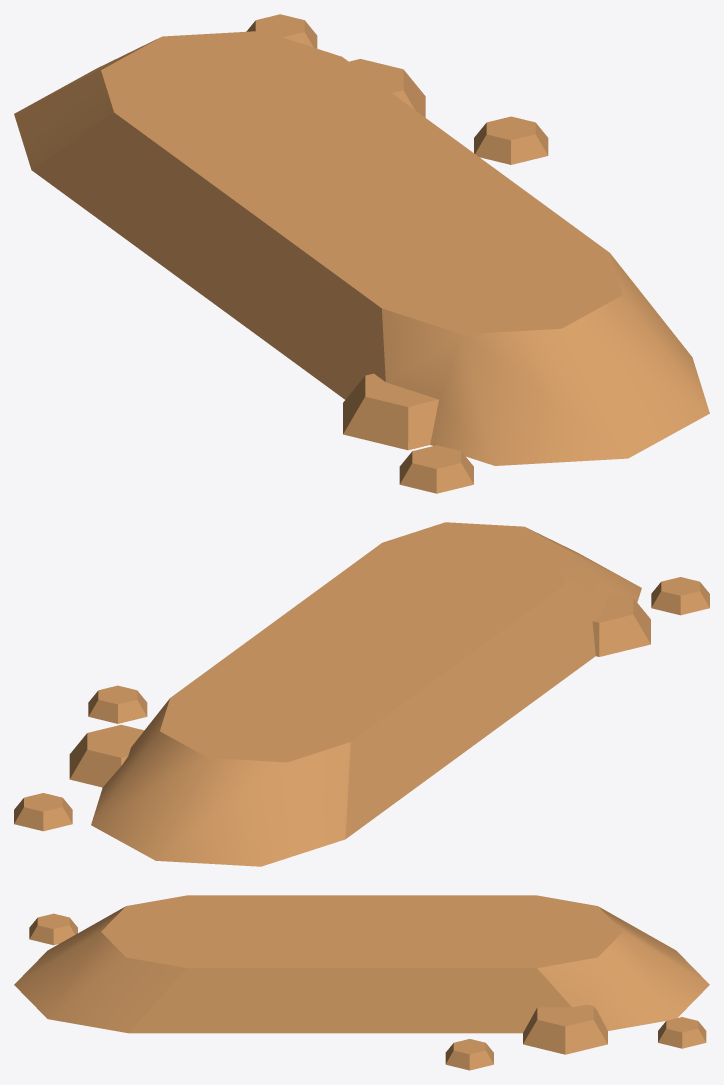
The model's file is grave.dae.
The picture shows the model from 3 angles, top to bottom: view 1: azimuth 30°, elevation 25°; view 2: azimuth 150°, elevation 25°; view 3: azimuth 270°, elevation 25°; orthographic projection. The views are drawn at different scales.
Parts seen in each view (by area): view 1: grave; view 2: grave; view 3: grave.
Boxes of the visible parts, bbox=[...] form: grave: bbox=[14, 14, 709, 493]; grave: bbox=[14, 522, 709, 866]; grave: bbox=[14, 895, 709, 1070].
Bounding box in the file's own units: 0.5731 × 0.0952 × 1.13.
